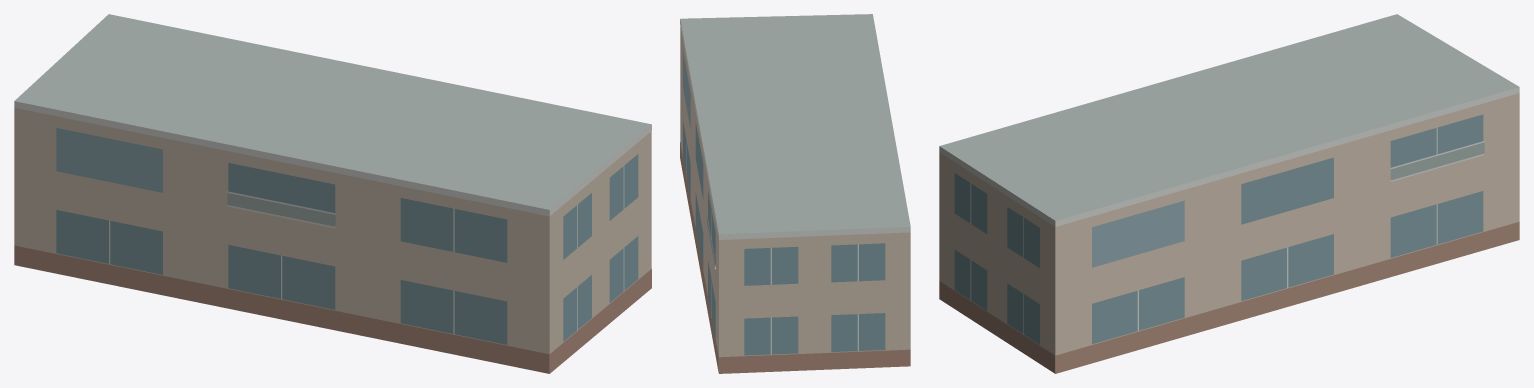
The model's file is survey-upis-32843847.glb.
3 renders of one model, left to right at view 1: azimuth 30°, elevation 25°; view 2: azimuth 150°, elevation 25°; view 3: azimuth 270°, elevation 25°, orthographic. The views are drawn at different scales.
Visible parts, largest first — view 1: survey-upis-32843847.tmp; view 2: survey-upis-32843847.tmp; view 3: survey-upis-32843847.tmp.
Part boxes in pixels (x1,y1,x2,y2): survey-upis-32843847.tmp: (14, 14, 651, 373); survey-upis-32843847.tmp: (680, 14, 910, 373); survey-upis-32843847.tmp: (939, 14, 1519, 373).
Bounding box in the file's own units: 17.7 × 6.1 × 20.97.
